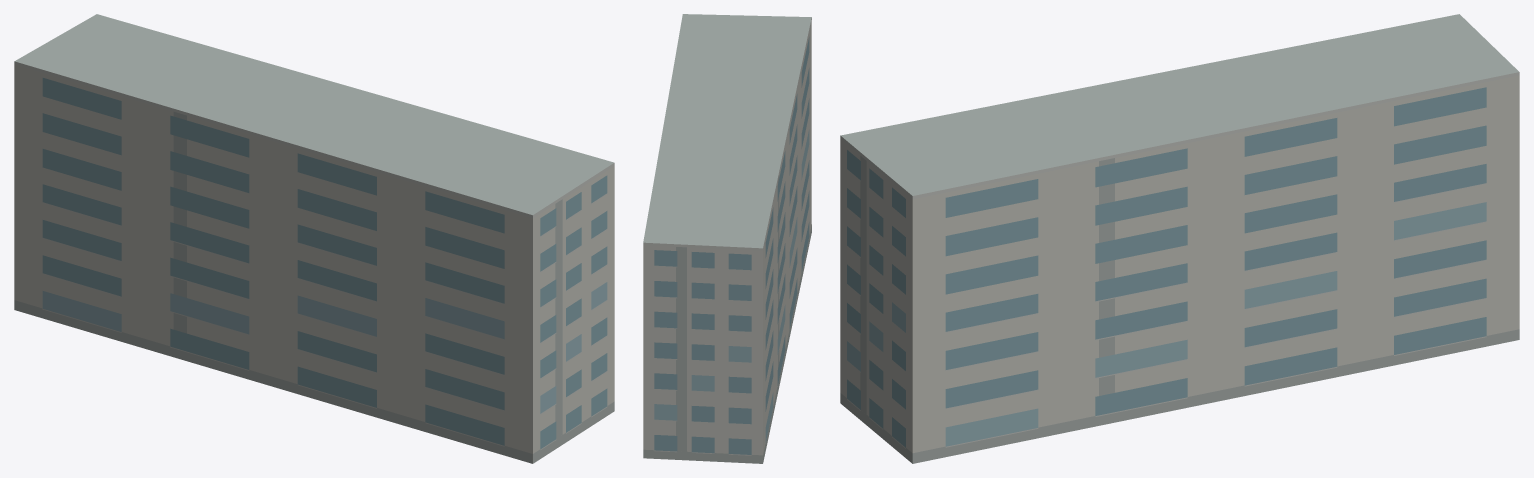
Rendered from survey-upis-32705153.glb.
3 renders of one model, left to right at view 1: azimuth 30°, elevation 25°; view 2: azimuth 150°, elevation 25°; view 3: azimuth 270°, elevation 25°, orthographic. The views are drawn at different scales.
Parts seen in each view (by area): view 1: survey-upis-32705153.tmp; view 2: survey-upis-32705153.tmp; view 3: survey-upis-32705153.tmp.
Part boxes in pixels (x1,y1,x2,y2): survey-upis-32705153.tmp: (14,14,614,463); survey-upis-32705153.tmp: (643,14,811,463); survey-upis-32705153.tmp: (840,14,1519,463).
Bounding box in the file's own units: 29.23 × 20.05 × 46.08.
